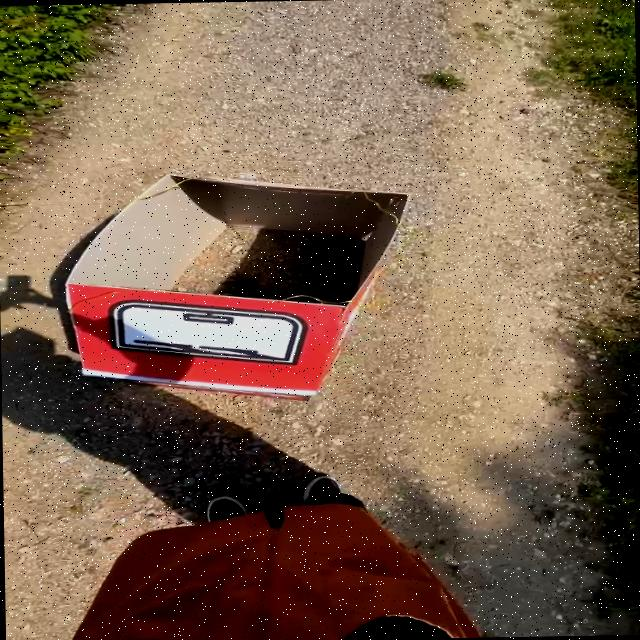red_car: (49, 165, 418, 424)
